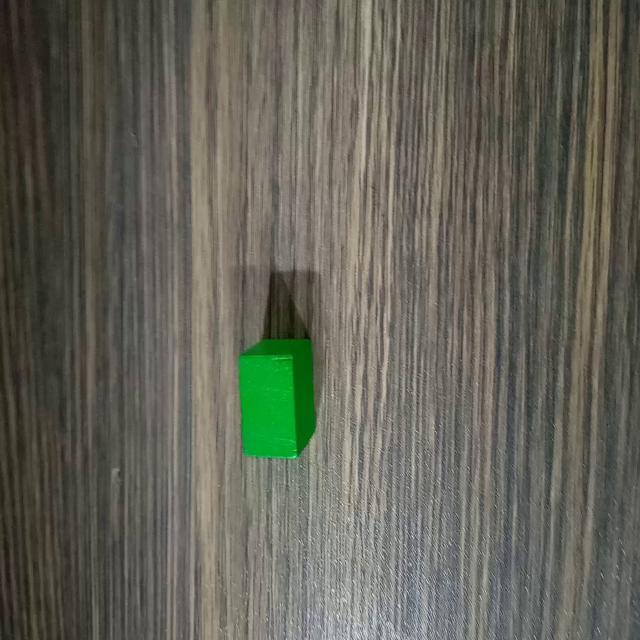cube: (236, 331, 319, 466)
